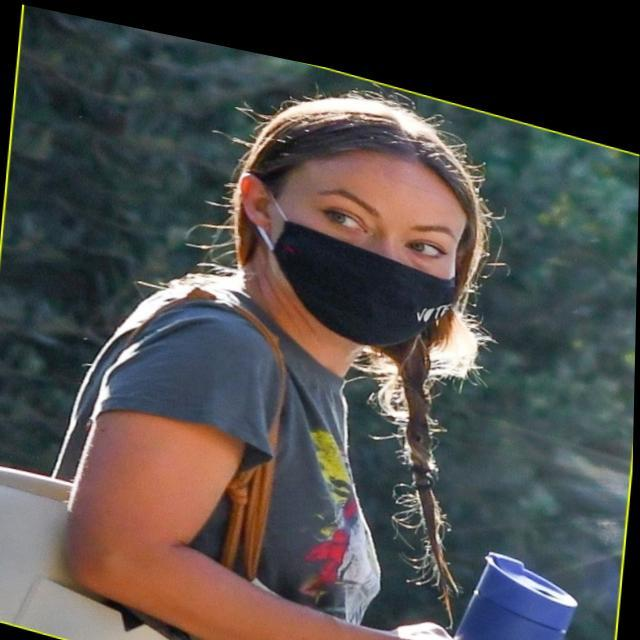Nonhelmet: (209, 79, 511, 360)
